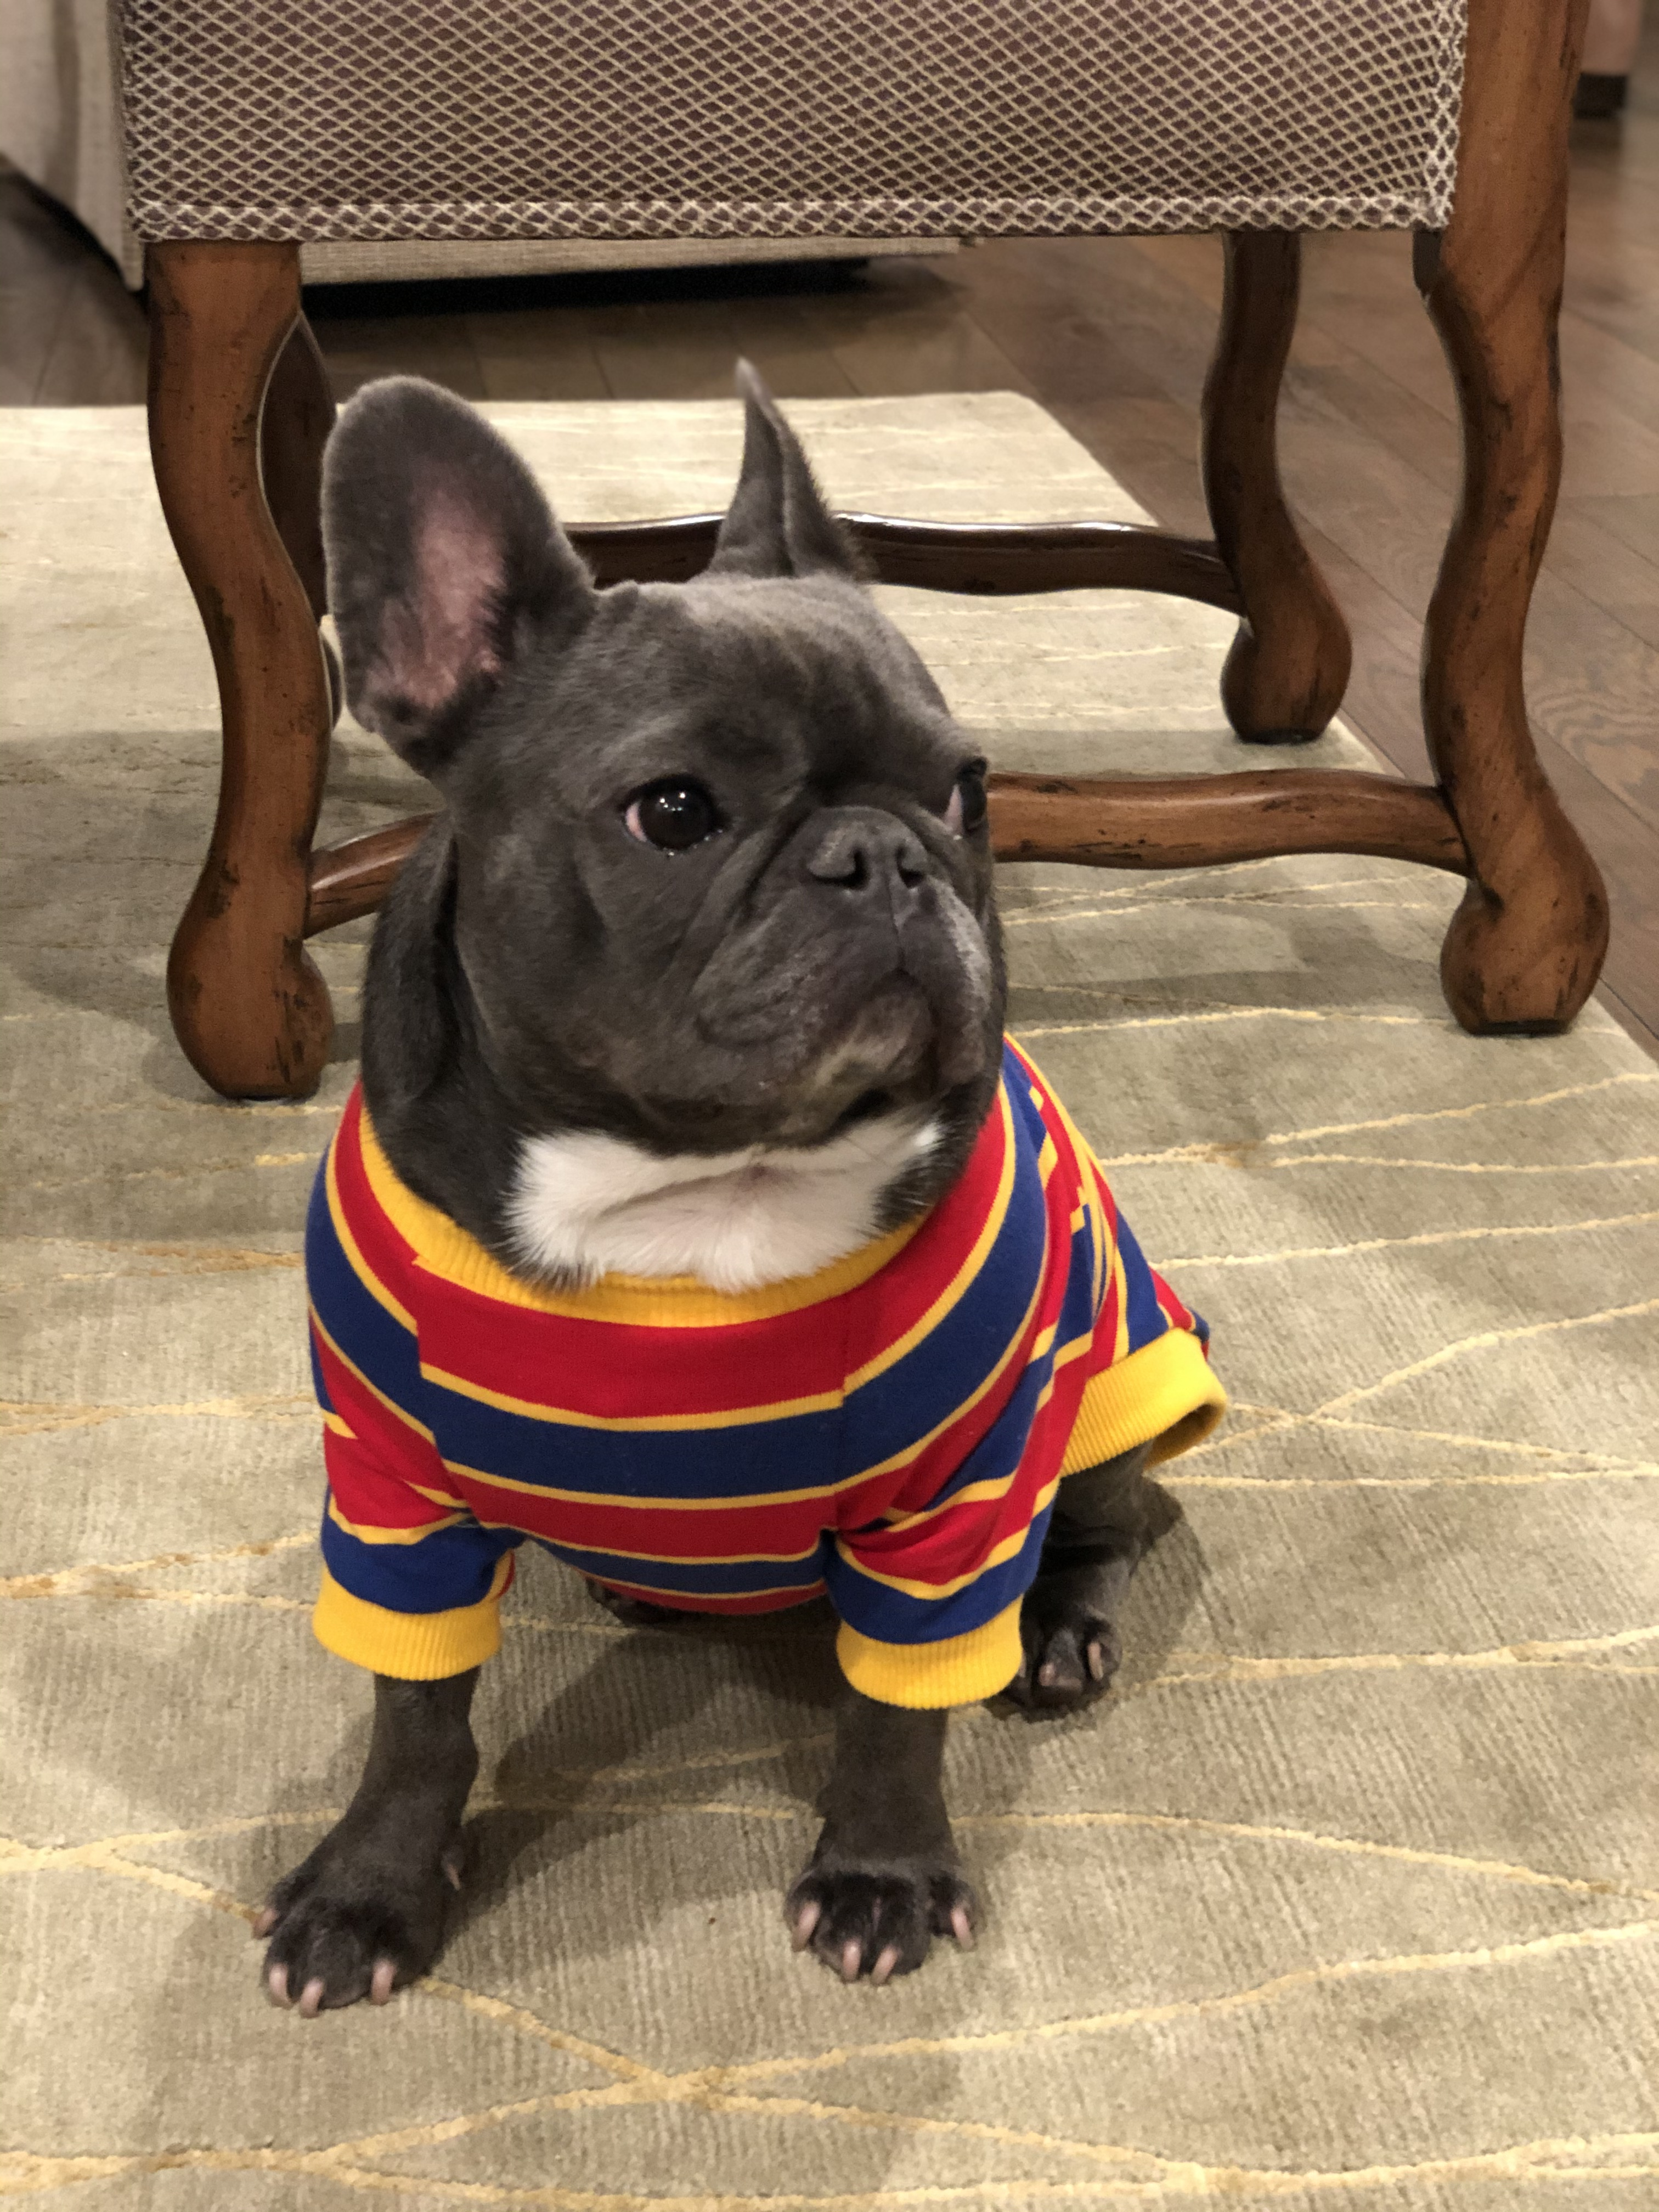lucy: (246, 350, 1239, 2041)
